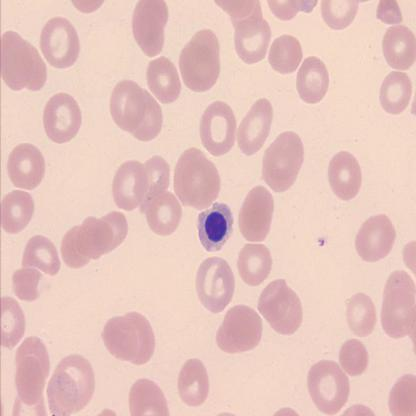NRC: (197, 199, 235, 254)
